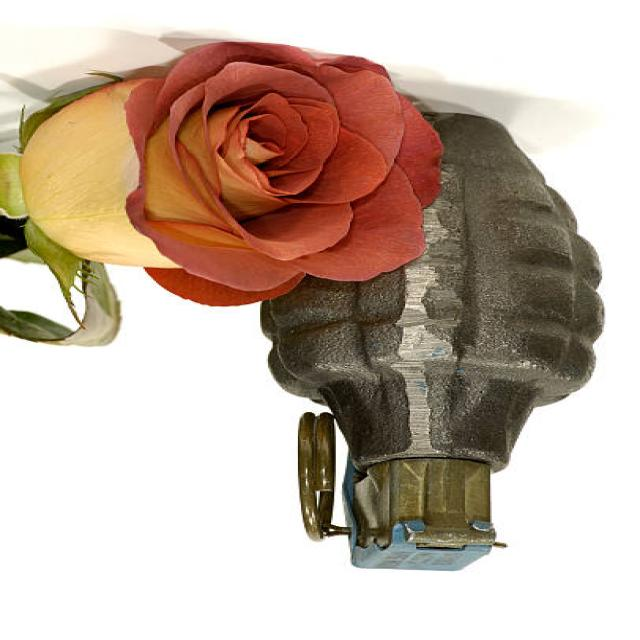grenade: (255, 112, 613, 577)
